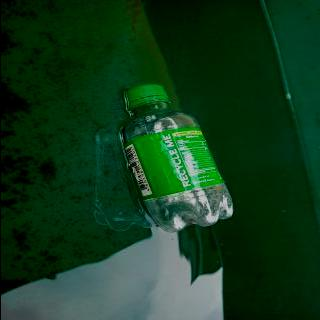bottle: (118, 83, 236, 234)
